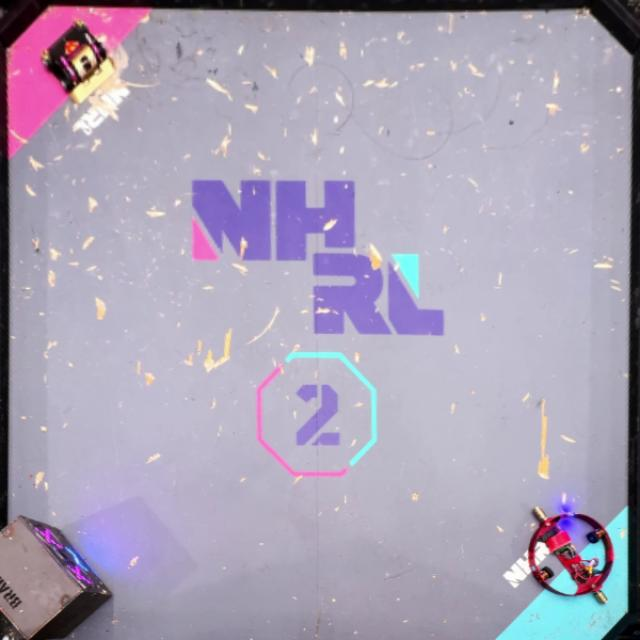housebot: (0, 515, 113, 640)
robot: (530, 505, 614, 603), (42, 17, 118, 104)
